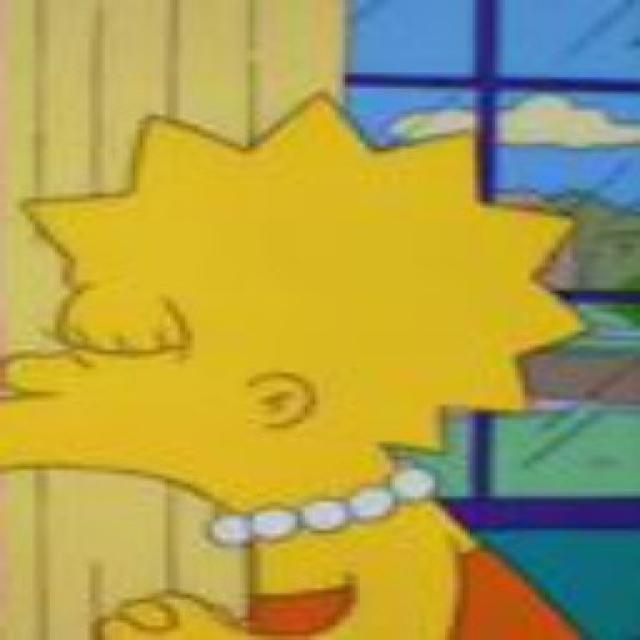Lisa Simpson: (8, 90, 592, 524)
